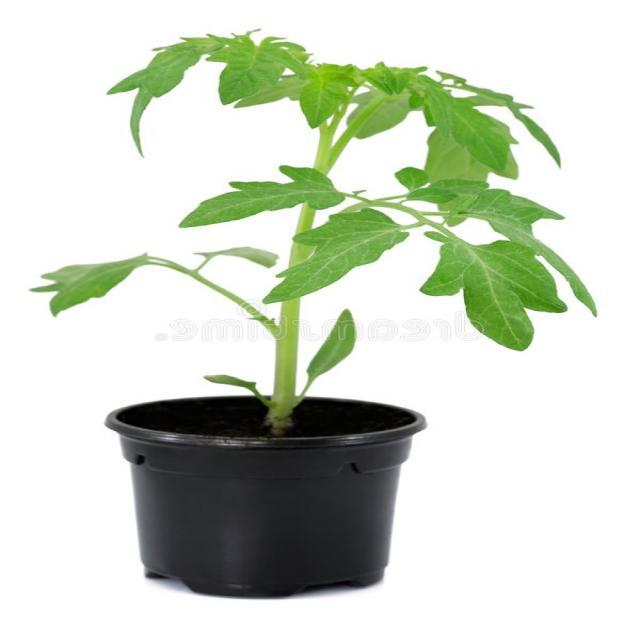tomato: (32, 31, 597, 436), (300, 63, 353, 128)
